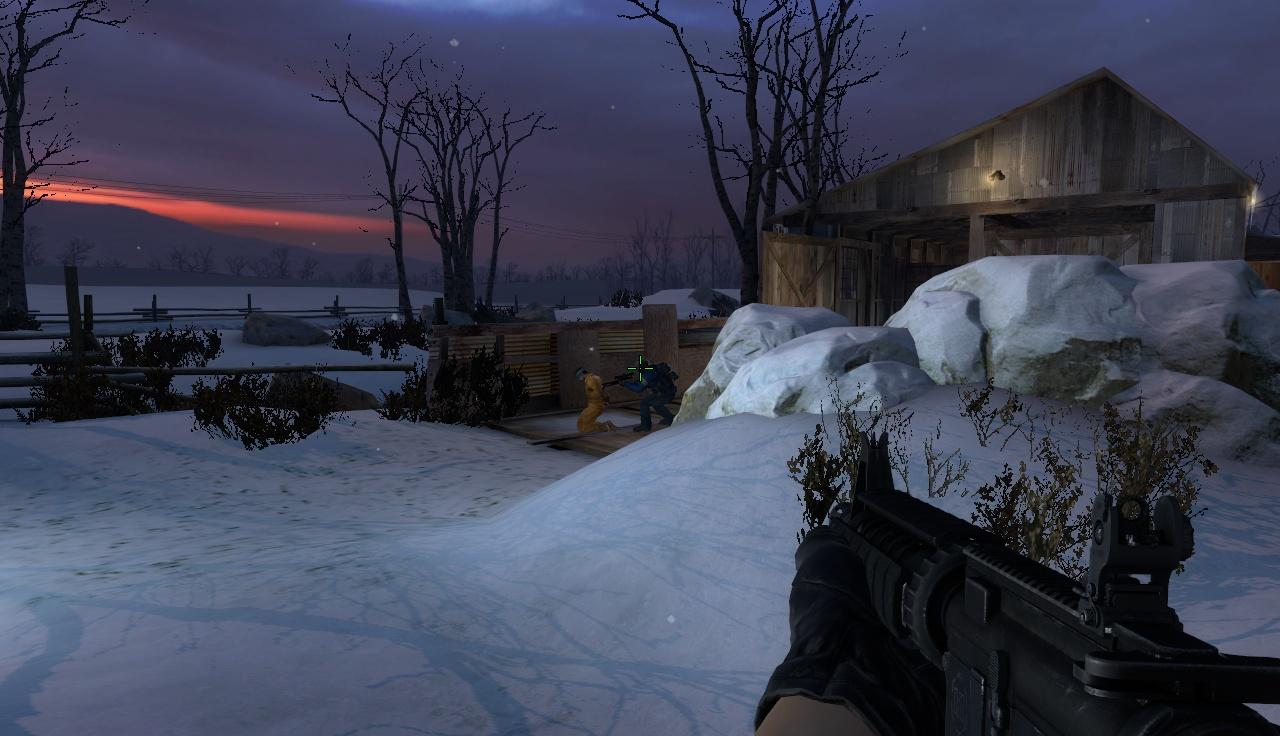ct: (633, 358, 675, 427)
rifle: (812, 429, 1280, 736)
